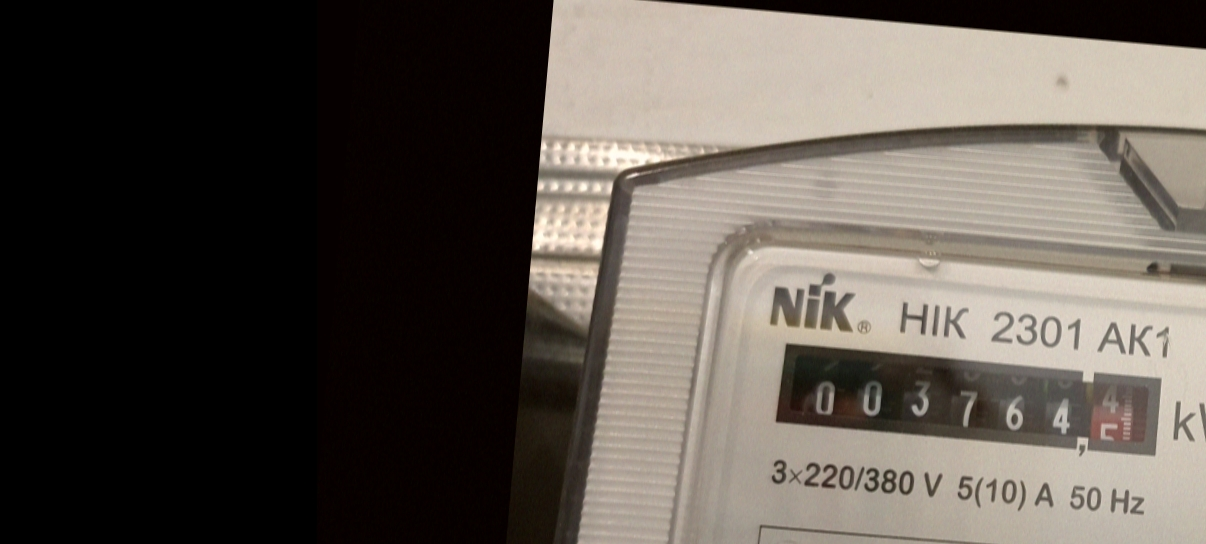0: (811, 376, 838, 416), (859, 376, 884, 417)
3: (907, 376, 933, 418)
4: (1051, 394, 1073, 435), (1099, 381, 1123, 414)
5: (1096, 419, 1120, 442)
6: (1003, 391, 1027, 431)
7: (954, 385, 981, 429)
screen: (760, 325, 1179, 470)
